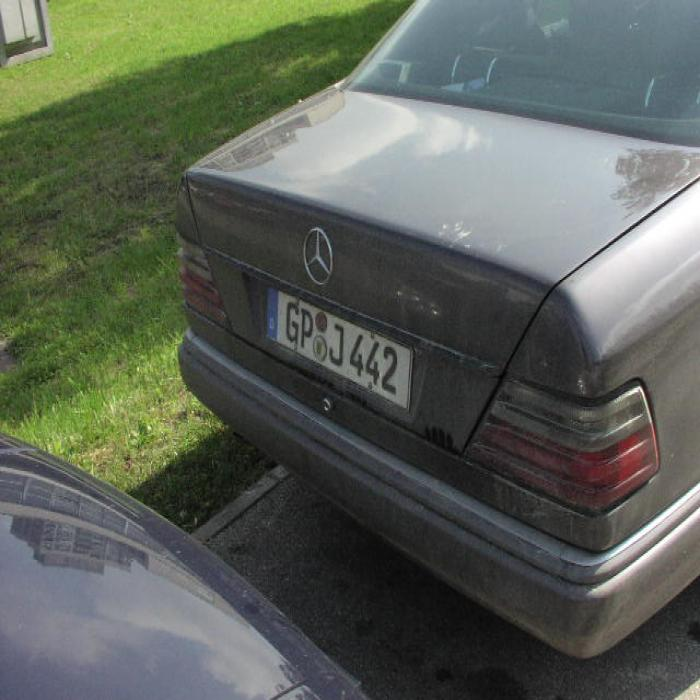number_plate: (264, 286, 406, 407)
